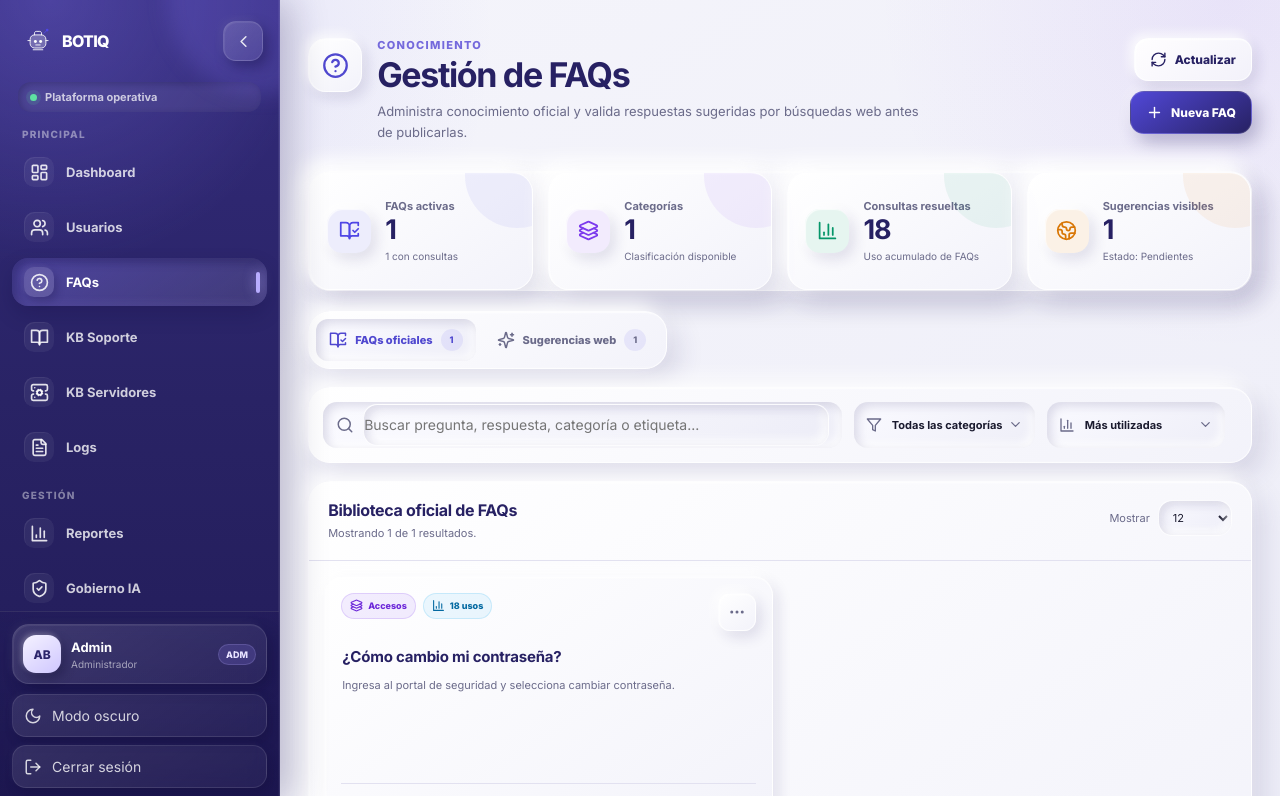
Test case: FaqsPage profesional › abre el modal para crear una FAQ
Expected: the heading "¿Cómo cambio mi contraseña?" is shown, [342,647,562,666]
What coordinates should you click on to do the following:
click the button "Nueva FAQ"
I would click on:
 (1191, 112)
Its box is [1130,91,1252,134].
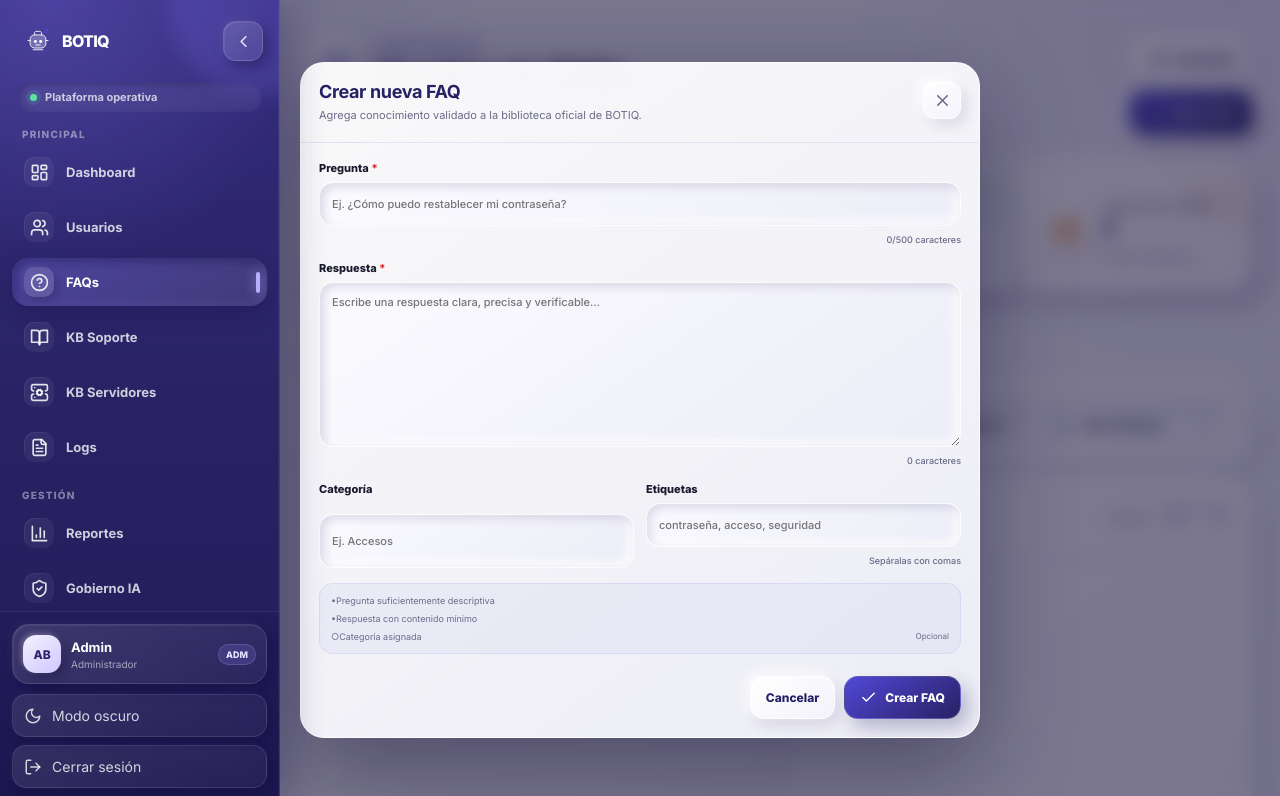
Result: the dialog is shown at [300,62,980,738]
Result: the heading "Crear nueva FAQ" is shown at [319,81,460,102]
